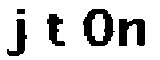0: (80, 5, 115, 48)
j: (5, 2, 30, 60)
n: (116, 16, 150, 50)
t: (41, 12, 69, 51)
